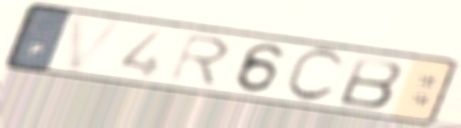4: (115, 27, 168, 79)
6: (231, 41, 289, 95)
B: (335, 54, 408, 110)
C: (280, 48, 349, 104)
R: (166, 32, 234, 88)
V: (62, 13, 131, 73)
